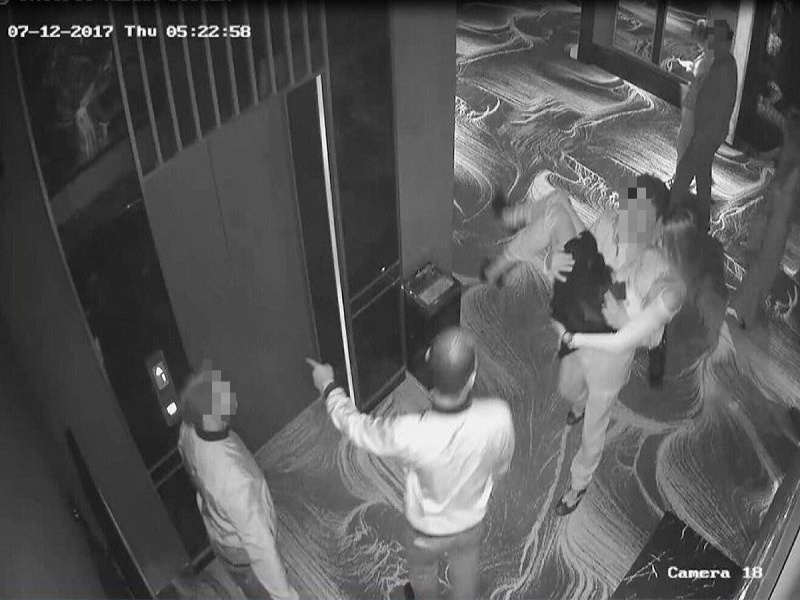person: (302, 326, 518, 600), (547, 159, 674, 522), (478, 187, 727, 357), (171, 356, 305, 600), (668, 15, 746, 235)
